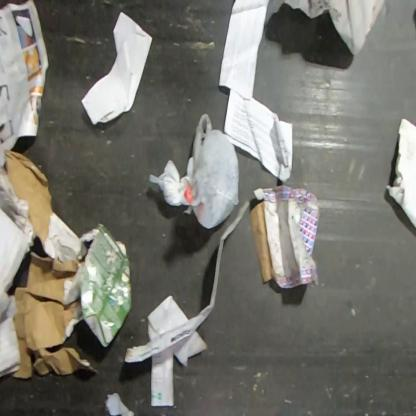cardboard: (4, 150, 100, 379), (249, 184, 321, 289), (0, 166, 35, 379), (76, 222, 132, 348)
soft_plastic: (124, 199, 250, 363), (148, 111, 240, 230), (265, 0, 389, 57)
